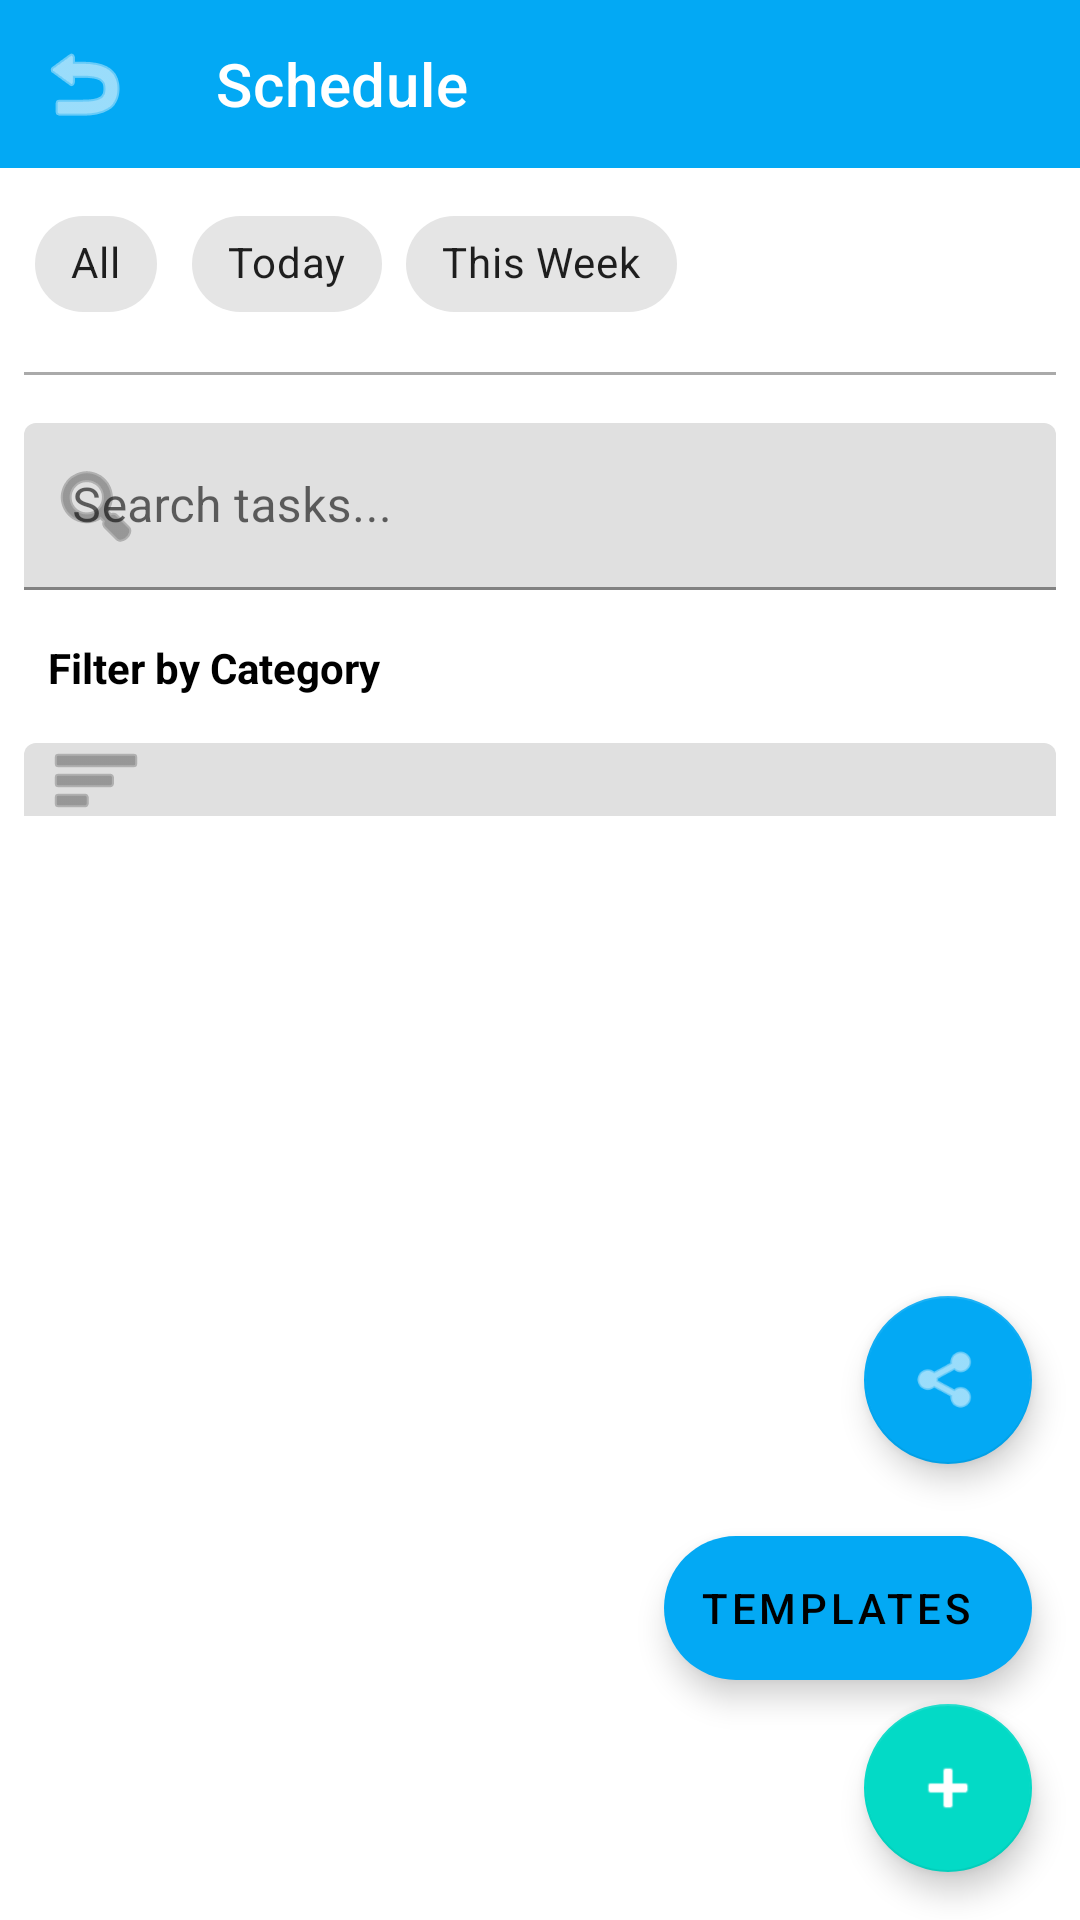

Icon bounding boxes for this 1080*1920 phone screenshot, format (x1, y1, x2, y2):
add: (864, 1704, 1032, 1872)
share: (864, 1296, 1032, 1464)
